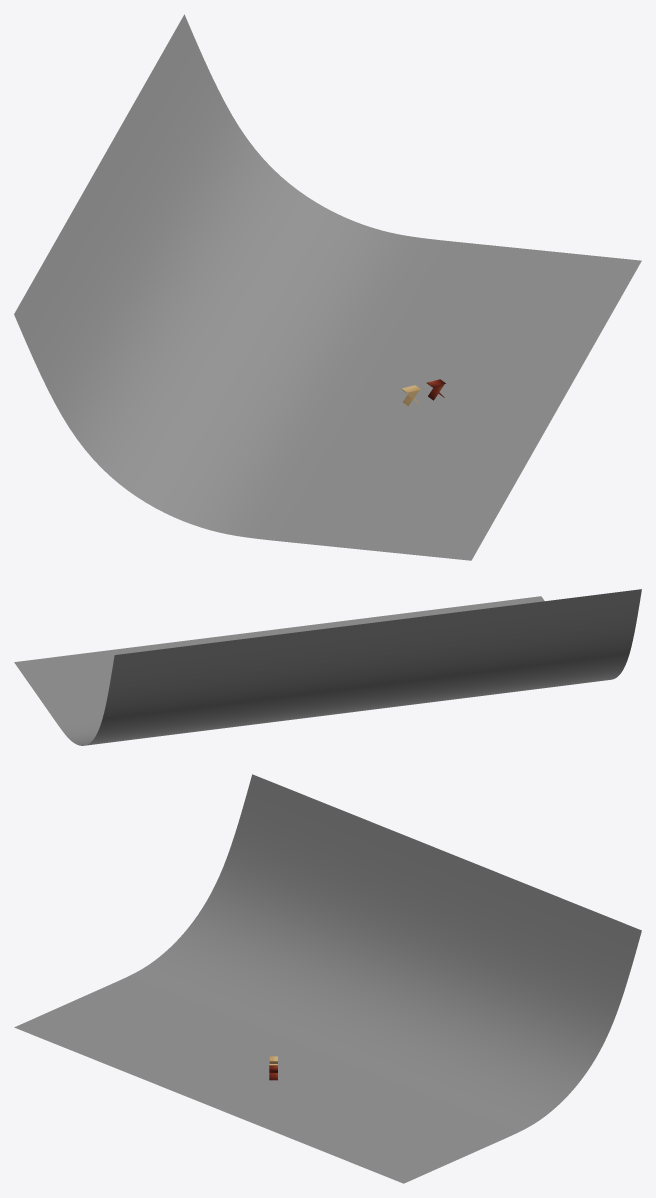
Rendered from table1.fbx.
3 renders of one model, top to bottom at view 1: azimuth 30°, elevation 25°; view 2: azimuth 150°, elevation 25°; view 3: azimuth 270°, elevation 25°, orthographic. The views are drawn at different scales.
Visible parts, largest first — view 1: Plane01; view 2: Plane01; view 3: Plane01.
Part boxes in pixels (x1,y1,x2,y2): Plane01: [14, 14, 641, 560]; Plane01: [14, 589, 641, 745]; Plane01: [14, 774, 641, 1183].
Bounding box in the file's own units: 3361 × 880 × 3399.
3 materials, 2 textured.
